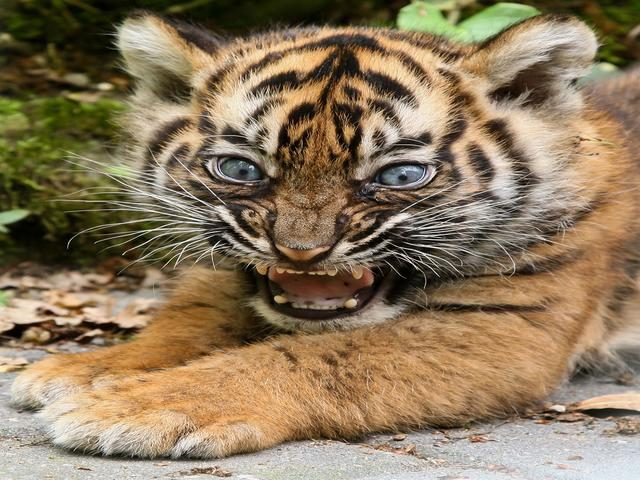tiger: (29, 11, 618, 451)
